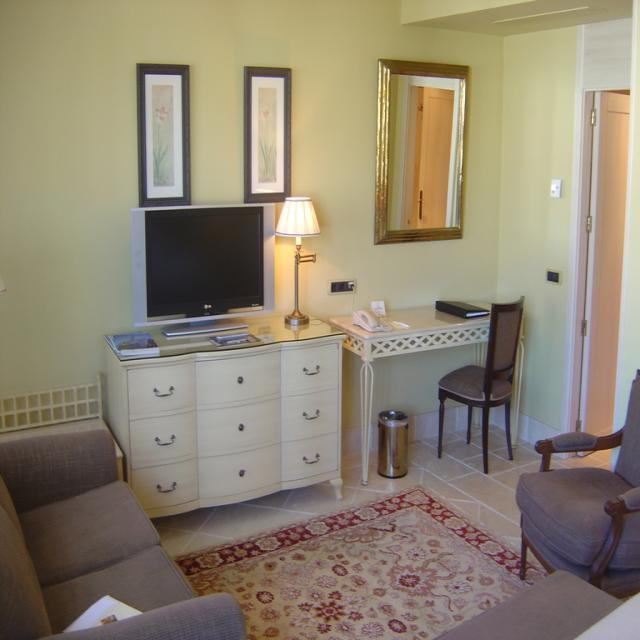Handle: (155, 477, 184, 504), (232, 457, 258, 487), (153, 422, 180, 450), (231, 417, 260, 443), (300, 447, 325, 477), (298, 401, 324, 427), (235, 365, 258, 392), (302, 360, 326, 383), (154, 387, 180, 401)
Lamppost: (276, 197, 322, 339)
chair: (431, 310, 513, 436)
door: (543, 92, 640, 436)
phone: (352, 302, 389, 338)
table: (119, 337, 350, 488), (334, 297, 531, 459)
television: (144, 208, 268, 314)
